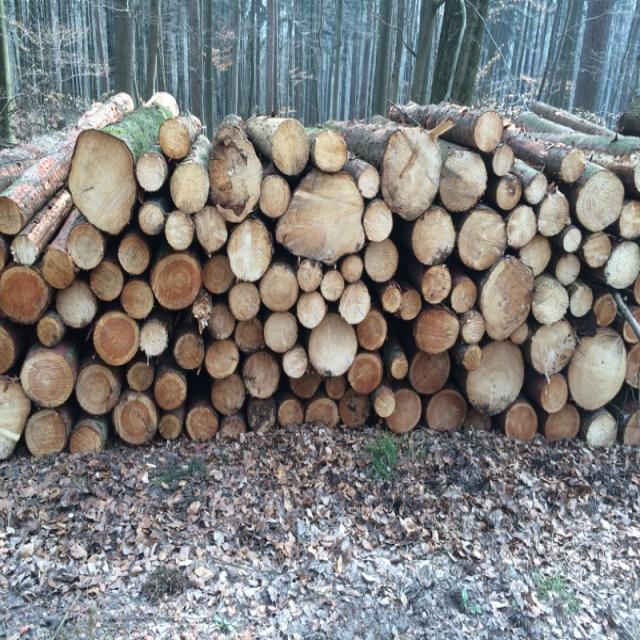wood-log: (280, 170, 368, 261), (68, 130, 137, 235), (569, 329, 628, 408), (480, 260, 534, 344), (466, 341, 526, 413), (21, 348, 75, 409), (309, 312, 359, 377), (573, 172, 624, 233), (458, 211, 508, 272), (224, 221, 272, 284), (0, 262, 48, 324), (438, 154, 486, 216), (150, 253, 200, 311), (0, 377, 31, 461), (412, 210, 458, 266), (93, 311, 140, 364), (268, 117, 309, 174), (116, 393, 158, 446), (414, 306, 460, 354), (56, 280, 98, 330), (169, 162, 210, 212), (26, 409, 68, 457), (259, 264, 299, 312), (74, 361, 112, 411), (530, 278, 569, 326), (244, 348, 282, 397), (408, 348, 450, 392), (67, 223, 105, 270), (427, 390, 467, 432), (388, 389, 424, 435), (196, 207, 230, 254), (316, 127, 351, 172), (607, 241, 640, 288), (264, 312, 300, 354), (536, 193, 570, 237), (347, 351, 382, 393), (361, 242, 396, 284), (213, 373, 247, 416), (202, 253, 236, 296), (90, 261, 126, 301), (120, 277, 154, 319), (42, 248, 76, 290), (338, 283, 372, 325), (504, 205, 538, 247), (261, 176, 293, 219), (205, 339, 240, 378), (118, 234, 152, 274), (546, 405, 582, 442), (155, 372, 189, 411), (506, 403, 540, 442), (520, 235, 553, 275), (228, 280, 261, 320), (159, 118, 192, 158), (355, 311, 387, 352), (362, 200, 393, 242), (422, 265, 454, 305), (474, 112, 506, 152), (173, 332, 204, 373), (135, 154, 169, 191), (164, 210, 195, 250), (207, 299, 237, 339), (187, 406, 219, 443), (340, 390, 371, 427), (540, 374, 570, 412), (587, 412, 618, 448), (297, 291, 328, 327), (583, 232, 614, 267), (139, 322, 168, 359), (306, 397, 338, 430), (235, 317, 265, 352), (451, 277, 478, 314), (70, 424, 103, 454), (292, 369, 323, 400), (298, 260, 326, 293), (38, 312, 65, 346), (0, 196, 24, 234), (554, 252, 582, 284), (495, 178, 521, 212), (277, 396, 305, 427), (139, 202, 166, 234), (321, 269, 347, 302), (571, 281, 595, 316), (560, 150, 586, 182), (127, 362, 154, 392), (620, 200, 640, 240), (158, 412, 184, 442), (461, 313, 484, 345), (593, 294, 616, 326), (283, 346, 307, 376), (0, 324, 14, 375), (525, 173, 548, 204), (374, 386, 396, 418), (341, 254, 365, 283), (624, 409, 640, 449), (493, 146, 513, 176), (627, 343, 640, 389), (324, 376, 347, 400), (563, 228, 582, 253), (391, 354, 407, 378)
